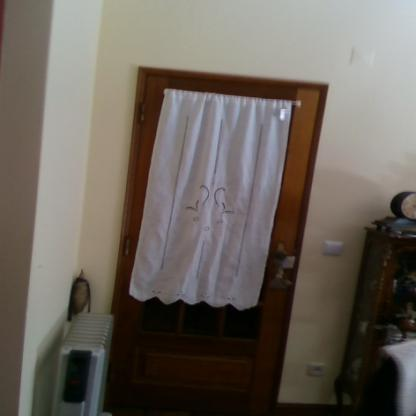door: (146, 72, 296, 416)
hinged: (140, 102, 148, 124), (109, 362, 116, 386), (124, 236, 131, 258)
knob: (274, 248, 288, 262)
